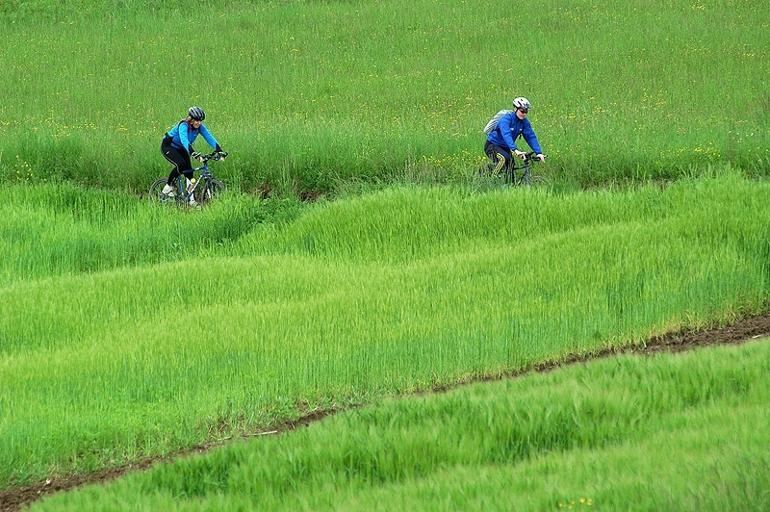non-vehicle: (143, 151, 230, 206), (480, 149, 548, 186)
